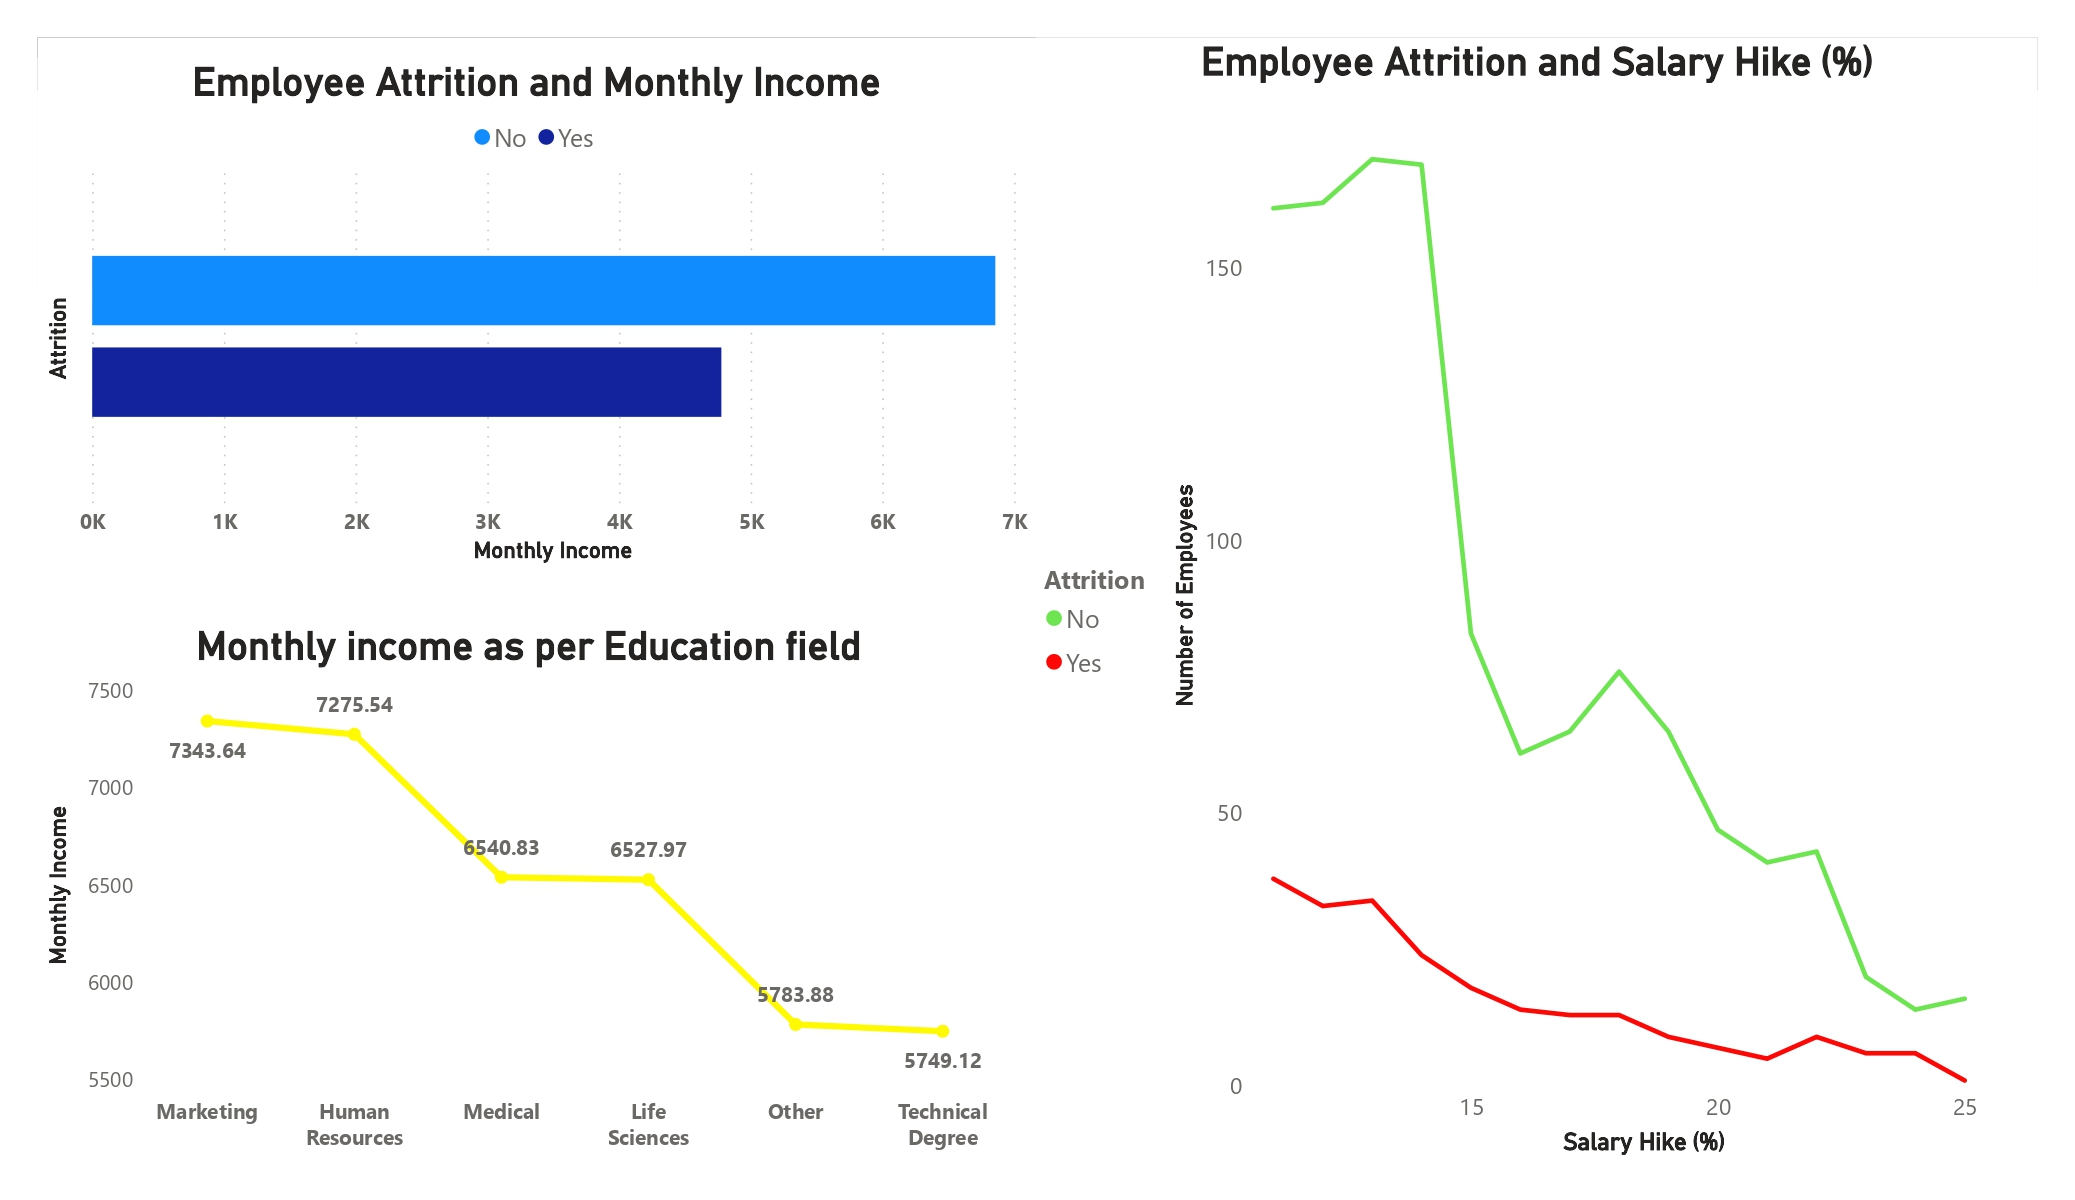

What the dashboard file says about the page in this screenshot:
{"tool":"powerbi","page":{"name":"Page 4","canvas":[1280,720],"ordinal":6},"visuals":[{"type":"barChart","title":"Employee Attrition and Monthly Income","fields":{"Category":["Cleaned data.Attrition"],"Y":["Avg(Cleaned data.MonthlyIncome)"],"Series":["Cleaned data.Attrition"]},"box":[0,13,639.4,328.3],"z":0},{"type":"lineChart","title":"Employee Attrition and Salary Hike (%)","fields":{"Category":["Cleaned data.PercentSalaryHike"],"Y":["CountNonNull(Cleaned data.Attrition)"],"Series":["Cleaned data.Attrition"]},"box":[639.4,0,640.8,720],"z":1000},{"type":"lineChart","title":"Monthly income as per Education field","fields":{"Category":["Cleaned data.EducationField"],"Y":["Avg(Cleaned data.MonthlyIncome)"]},"box":[0,374.4,629.3,345.6],"z":2000}]}

Visuals, with their boxes on the page's 1280x720 design canvas (x1, y1, x2, y2). These are canvas units, not pixel positions in the 2075x1200 screenshot, which may show the page scaled, cropped or inside an application window:
"Employee Attrition and Monthly Income" barChart: <box>0,13,639,341</box>
"Employee Attrition and Salary Hike (%)" lineChart: <box>639,0,1280,720</box>
"Monthly income as per Education field" lineChart: <box>0,374,629,720</box>
